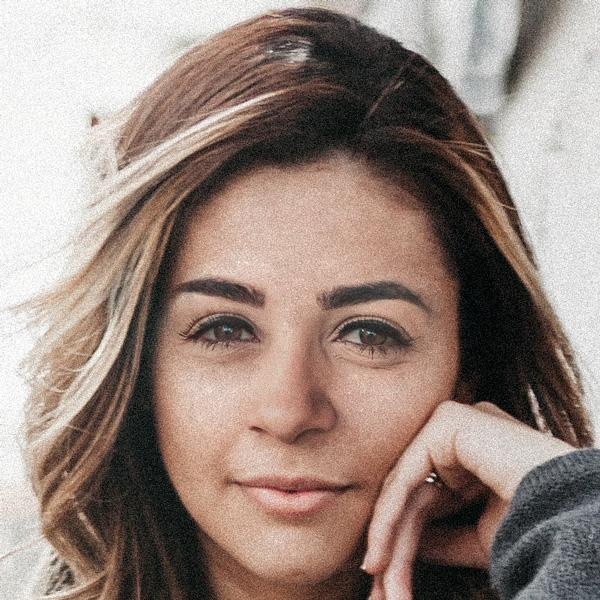Eyes: (322, 303, 425, 371), (174, 298, 265, 362)
